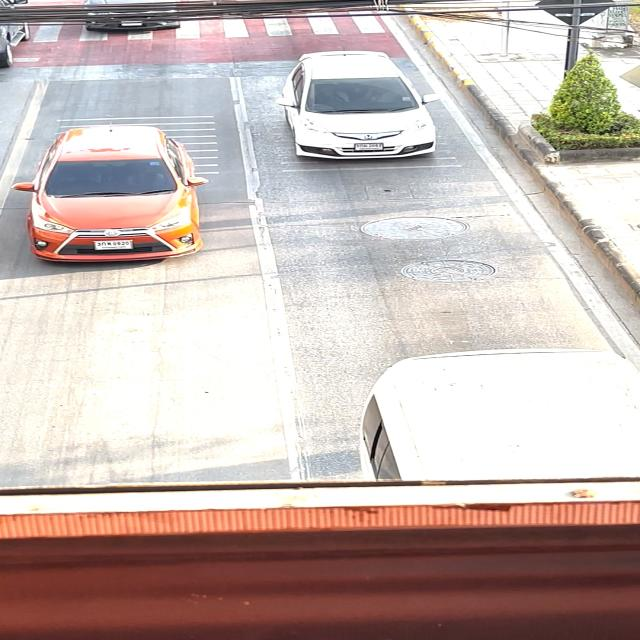car: (347, 337, 640, 497), (13, 117, 220, 274), (265, 51, 451, 170), (70, 0, 211, 42)
